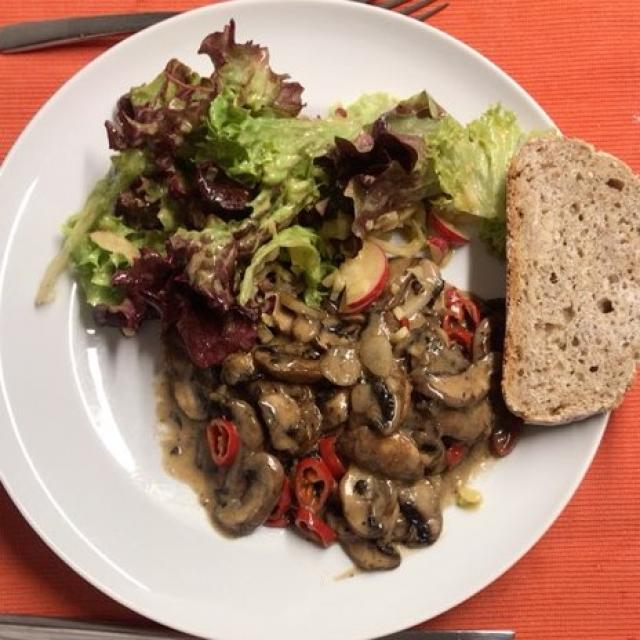bread-whole-wheat: (506, 133, 634, 424)
mushroom: (162, 266, 498, 562)
salad-leaf-salad-green: (46, 34, 520, 325)
